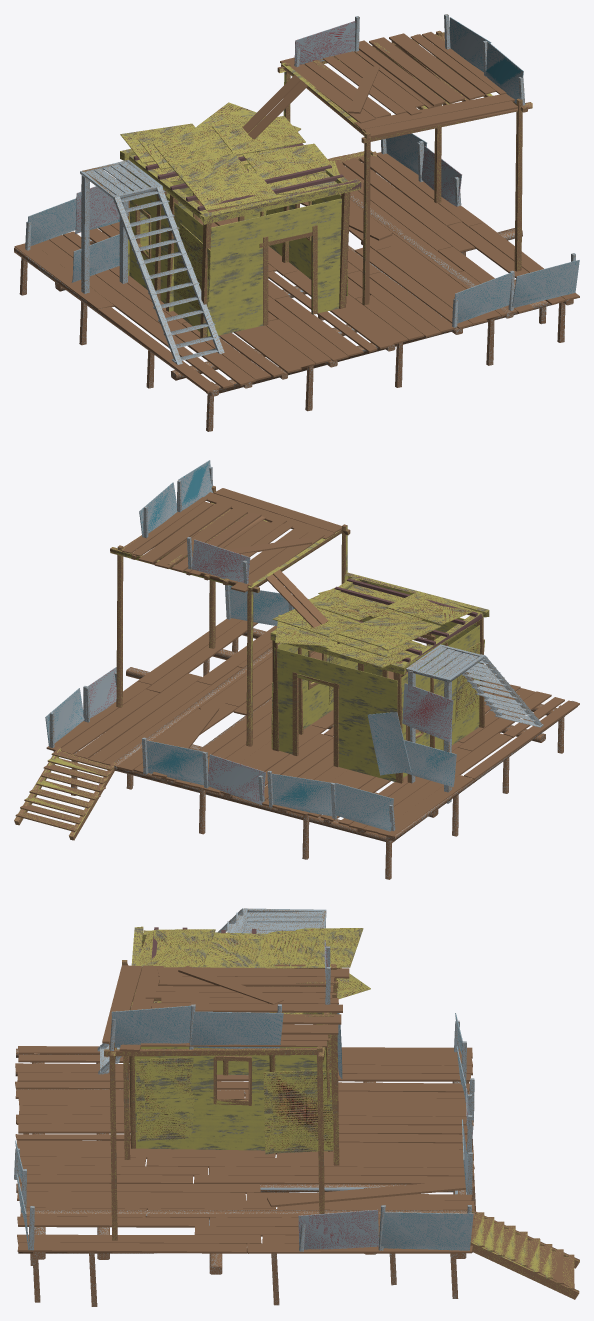
File: OutPost.fbx
3 views of the same model, one above another, from view 1: azimuth 30°, elevation 25°; view 2: azimuth 150°, elevation 25°; view 3: azimuth 270°, elevation 25° (orthographic). The views are drawn at different scales.
Parts seen in each view (by area): view 1: Model; view 2: Model; view 3: Model.
Part boxes in pixels (x1,y1,x2,y2): Model: [14, 14, 579, 431]; Model: [14, 460, 579, 879]; Model: [14, 908, 579, 1306].
Size of the model in its own units: 166 by 103 by 177.
